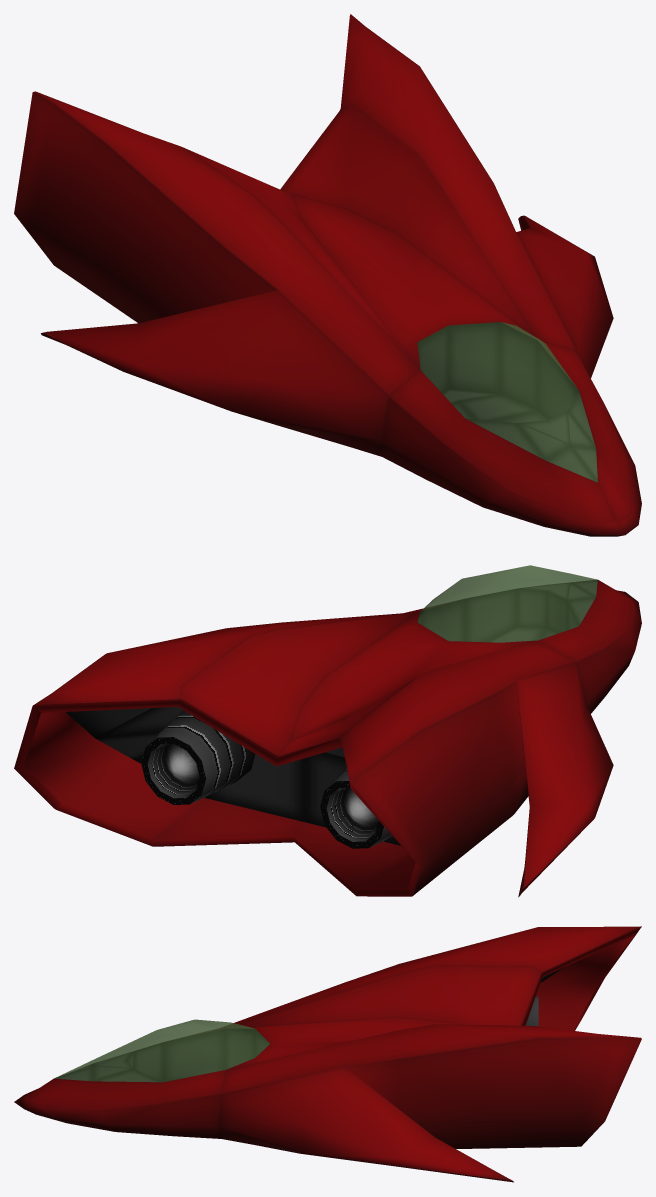
The model's file is VermillionSwallow.fbx.
3 renders of one model, top to bottom at view 1: azimuth 30°, elevation 25°; view 2: azimuth 150°, elevation 25°; view 3: azimuth 270°, elevation 25°, orthographic. The views are drawn at different scales.
Parts seen in each view (by area): view 1: VermillionSwallow; view 2: VermillionSwallow; view 3: VermillionSwallow.
Part boxes in pixels (<box>): VermillionSwallow: <box>14,14,641,536</box>; VermillionSwallow: <box>14,565,641,897</box>; VermillionSwallow: <box>14,926,641,1182</box>.
Bounding box in the file's own units: 472 × 165 × 739.
